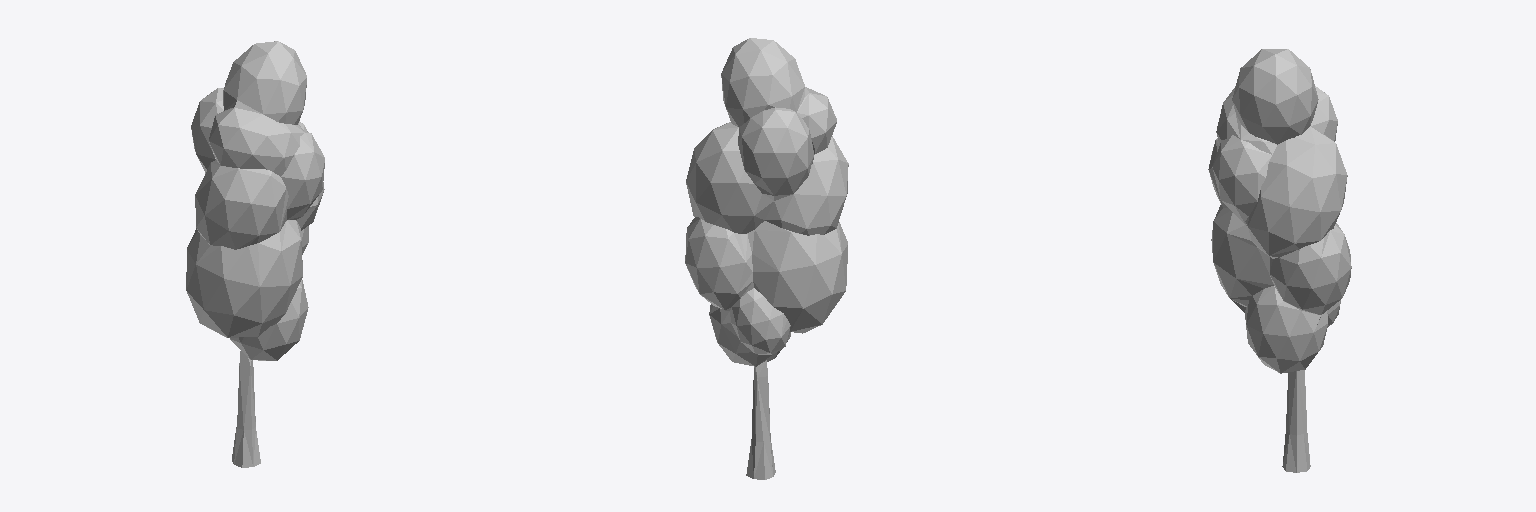
File: _7_tree.obj
3 renders of one model, left to right at view 1: azimuth 30°, elevation 25°; view 2: azimuth 150°, elevation 25°; view 3: azimuth 270°, elevation 25°, orthographic.
Visible parts, largest first — view 1: _7_tree_Icosphere.042; view 2: _7_tree_Icosphere.042; view 3: _7_tree_Icosphere.042.
Part boxes in pixels (left/top/right/bottom): _7_tree_Icosphere.042: left=186, top=41, right=324, bottom=467; _7_tree_Icosphere.042: left=685, top=38, right=848, bottom=479; _7_tree_Icosphere.042: left=1208, top=49, right=1351, bottom=472.
Size of the model in its own units: 0.9204 by 2.78 by 0.8524.